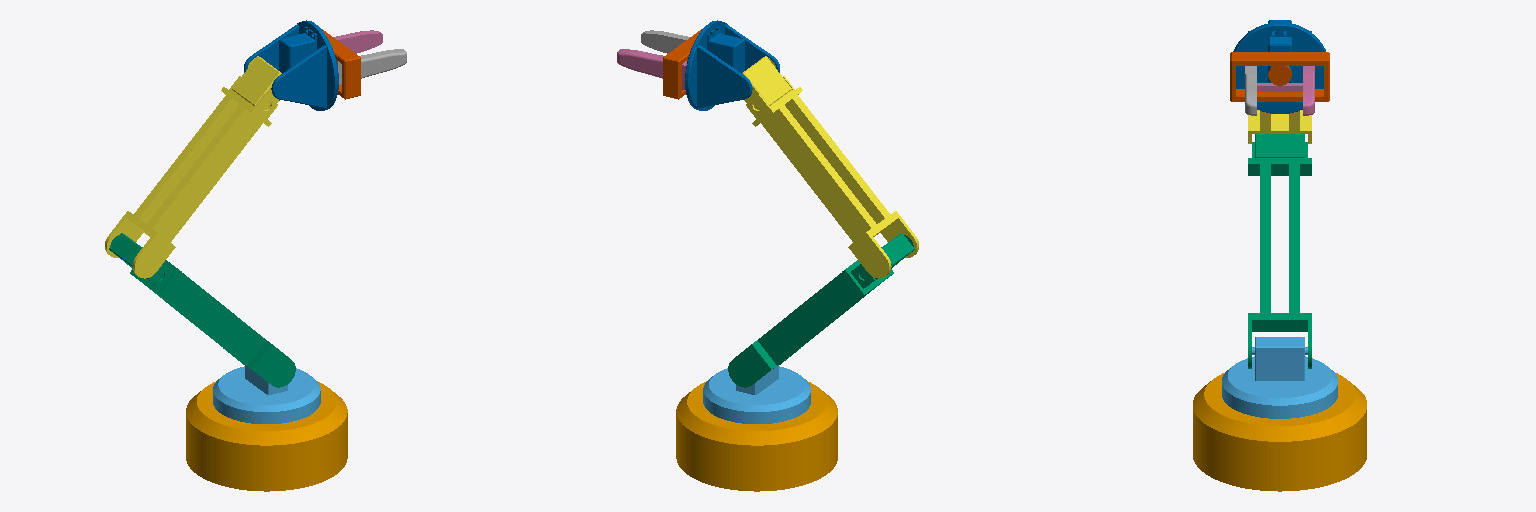
URDF robot description (robotic_arm):
<?xml version='1.0' encoding='utf-8'?>
<robot name="robotic_arm">
    <link name="base_link">
        <inertial>
            <origin xyz="0.0019350882837125133 -7.56053614966041e-18 -0.038471998484193894" rpy="0.0 0.0 0.0" />
            <mass value="1.2751270079207355" />
            <inertia ixx="0.0017613284780996711" iyy="0.001805084256313058" izz="0.00293673143960502" ixy="-1.5497898273746184e-18" iyz="-1.1716081790541872e-18" ixz="-6.572193393048108e-06" />
        </inertial>
        <visual name="base_link_visual">
            <origin xyz="0.0 0.0 0.0" rpy="0.0 0.0 0.0" />
            <geometry>
                <mesh filename="meshes/base_link.stl" scale="0.001 0.001 0.001" />
            </geometry>
        </visual>
        <collision name="base_link_collision">
            <origin xyz="0.0 0.0 0.0" rpy="0.0 0.0 0.0" />
            <geometry>
                <mesh filename="meshes/base_link.stl" scale="0.001 0.001 0.001" />
            </geometry>
        </collision>
    </link>
    <link name="base">
        <inertial>
            <origin xyz="-2.412577731329081e-14 -2.527847581023765e-18 0.023788025443157838" rpy="0.0 -0.0 0.0" />
            <mass value="0.44973770798148155" />
            <inertia ixx="0.00023083608238558574" iyy="0.00018973558521466914" izz="0.00023807605683574535" ixy="-2.1555024432015656e-19" iyz="-2.7725974909069286e-20" ixz="1.867266350592463e-16" />
        </inertial>
        <visual name="base_visual">
            <origin xyz="0.0 0.0 0.01" rpy="0.0 -0.0 0.0" />
            <geometry>
                <mesh filename="meshes/base.stl" scale="0.001 0.001 0.001" />
            </geometry>
        </visual>
        <collision name="base_collision">
            <origin xyz="0.0 0.0 0.01" rpy="0.0 -0.0 0.0" />
            <geometry>
                <mesh filename="meshes/base.stl" scale="0.001 0.001 0.001" />
            </geometry>
        </collision>
    </link>
    <link name="arm_link">
        <inertial>
            <origin xyz="-0.1155607287042174 -0.11556072870424983 4.699571336434638e-18" rpy="0.0 -0.0 0.0" />
            <mass value="0.4058712905468499" />
            <inertia ixx="0.0006924109730527574" iyy="0.0006924109730514468" izz="0.0012336786613033925" ixy="-0.0005986893722248077" iyz="-2.426979280947317e-18" ixz="1.5088365465326855e-18" />
        </inertial>
        <visual name="arm_link_visual">
            <origin xyz="0.021920310543421046 0.021920310543421053 -1.1102230246251566e-18" rpy="1.5707963267948966 2.7755575615628907e-17 -0.7853981633974483" />
            <geometry>
                <mesh filename="meshes/arm_link.stl" scale="0.001 0.001 0.001" />
            </geometry>
        </visual>
        <collision name="arm_link_collision">
            <origin xyz="0.021920310543421046 0.021920310543421053 -1.1102230246251566e-18" rpy="1.5707963267948966 2.7755575615628907e-17 -0.7853981633974483" />
            <geometry>
                <mesh filename="meshes/arm_link.stl" scale="0.001 0.001 0.001" />
            </geometry>
        </collision>
    </link>
    <link name="forearm_link">
        <inertial>
            <origin xyz="0.11933484640300154 -0.11933484994944876 -3.7213986549953376e-18" rpy="-2.7369110631344083e-48 3.0385816786431356e-64 0.0" />
            <mass value="0.398627452252384" />
            <inertia ixx="0.0006820144224255595" iyy="0.0006820144224268941" izz="0.0012165071520571472" ixy="0.0005919414805905257" iyz="-2.832362186398165e-20" ixz="-1.161890082201946e-19" />
        </inertial>
        <visual name="forearm_link_visual">
            <origin xyz="-0.16581654376326369 0.16581654021678285 7.549516567451074e-17" rpy="1.570796326794897 -1.110223024625157e-16 0.7853981633974477" />
            <geometry>
                <mesh filename="meshes/forearm_link.stl" scale="0.001 0.001 0.001" />
            </geometry>
        </visual>
        <collision name="forearm_link_collision">
            <origin xyz="-0.16581654376326369 0.16581654021678285 7.549516567451074e-17" rpy="1.570796326794897 -1.110223024625157e-16 0.7853981633974477" />
            <geometry>
                <mesh filename="meshes/forearm_link.stl" scale="0.001 0.001 0.001" />
            </geometry>
        </collision>
    </link>
    <link name="wrist_link">
        <inertial>
            <origin xyz="0.03558762872383781 -0.008396382172655877 -4.677373772692103e-06" rpy="0.0 -0.0 0.0" />
            <mass value="0.30675157970415107" />
            <inertia ixx="9.338128096254839e-05" iyy="7.776523033221921e-05" izz="0.00010254991655347934" ixy="-2.4075136102379505e-06" iyz="1.223708010768378e-08" ixz="1.4168188876894576e-08" />
        </inertial>
        <visual name="wrist_link_visual">
            <origin xyz="-0.442500003834537 -2.2600423932317426e-09 4.440892098500637e-18" rpy="1.5707963267948968 -2.747661802696606e-16 1.5707963267948966" />
            <geometry>
                <mesh filename="meshes/wrist_link.stl" scale="0.001 0.001 0.001" />
            </geometry>
        </visual>
        <collision name="wrist_link_collision">
            <origin xyz="-0.442500003834537 -2.2600423932317426e-09 4.440892098500637e-18" rpy="1.5707963267948968 -2.747661802696606e-16 1.5707963267948966" />
            <geometry>
                <mesh filename="meshes/wrist_link.stl" scale="0.001 0.001 0.001" />
            </geometry>
        </collision>
    </link>
    <link name="gripper_link">
        <inertial>
            <origin xyz="0.0041223026656079485 -4.9882493000711394e-17 2.2600379168125073e-09" rpy="0.0 -0.0 0.0" />
            <mass value="0.032286945472705525" />
            <inertia ixx="2.4506894963453266e-05" iyy="6.4339200135685e-06" izz="1.971550006383963e-05" ixy="-2.3882520087669606e-20" iyz="-1.552582880198466e-20" ixz="-7.589415207398531e-19" />
        </inertial>
        <visual name="gripper_link_visual">
            <origin xyz="-0.5014000038345371 4.440892098500626e-18 2.2600423932317426e-09" rpy="1.177569344012831e-16 1.5707963267948963 0" />
            <geometry>
                <mesh filename="meshes/gripper_link.stl" scale="0.001 0.001 0.001" />
            </geometry>
        </visual>
        <collision name="gripper_link_collision">
            <origin xyz="-0.5014000038345371 4.440892098500626e-18 2.2600423932317426e-09" rpy="1.177569344012831e-16 1.5707963267948963 0" />
            <geometry>
                <mesh filename="meshes/gripper_link.stl" scale="0.001 0.001 0.001" />
            </geometry>
        </collision>
    </link>
    <link name="finger_l">
        <inertial>
            <origin xyz="0.028848103581100182 0.022913349293162213 0.008735724525305423" rpy="0.0 -0.0 0.0" />
            <mass value="0.01578028501010725" />
            <inertia ixx="1.6319669672267608e-06" iyy="8.481847736222653e-06" izz="8.878684134625665e-06" ixy="-8.875979579263719e-07" iyz="-3.5551716122507796e-07" ixz="-5.743822306467495e-07" />
        </inertial>
        <visual name="finger_l_visual">
            <origin xyz="-0.5024000038345371 -0.007499999999999995 0.010000002260042358" rpy="1.177569344012831e-16 1.5707963267948963 0" />
            <geometry>
                <mesh filename="meshes/finger_l.stl" scale="0.001 0.001 0.001" />
            </geometry>
        </visual>
        <collision name="finger_l_collision">
            <origin xyz="-0.5024000038345371 -0.007499999999999995 0.010000002260042358" rpy="1.177569344012831e-16 1.5707963267948963 0" />
            <geometry>
                <mesh filename="meshes/finger_l.stl" scale="0.001 0.001 0.001" />
            </geometry>
        </collision>
    </link>
    <link name="finger_r">
        <inertial>
            <origin xyz="0.02884801104673416 -0.022913419650612443 -0.008735731076936589" rpy="0.0 -0.0 0.0" />
            <mass value="0.015780485954483076" />
            <inertia ixx="1.631986601722396e-06" iyy="8.481870175917937e-06" izz="8.878699209223376e-06" ixy="8.875900838909164e-07" iyz="-3.5551816132200164e-07" ixz="5.743819837909368e-07" />
        </inertial>
        <visual name="finger_r_visual">
            <origin xyz="-0.5024000038345371 0.007500000000000005 -0.009999997739957607" rpy="1.177569344012831e-16 1.5707963267948963 0" />
            <geometry>
                <mesh filename="meshes/finger_r.stl" scale="0.001 0.001 0.001" />
            </geometry>
        </visual>
        <collision name="finger_r_collision">
            <origin xyz="-0.5024000038345371 0.007500000000000005 -0.009999997739957607" rpy="1.177569344012831e-16 1.5707963267948963 0" />
            <geometry>
                <mesh filename="meshes/finger_r.stl" scale="0.001 0.001 0.001" />
            </geometry>
        </collision>
    </link>
    <joint name="base_link_base_rotation" type="continuous">
        <origin xyz="0.0 0.0 -0.01" rpy="0.0 -0.0 0.0" />
        <parent link="base_link" />
        <child link="base" />
        <axis xyz="0.0 0.0 1.0" />
    </joint>
    <joint name="base_arm_rotation" type="continuous">
        <origin xyz="0.0 0.0 0.040999999999999995" rpy="-1.5707963267948966 -0.0 0.0" />
        <parent link="base" />
        <child link="arm_link" />
        <axis xyz="0.0 0.0 1.0" />
    </joint>
    <joint name="arm_link_forearm_rotation" type="continuous">
        <origin xyz="-0.14389623 -0.14389623 0.0" rpy="1.3866695599588117e-32 -2.5658541216885115e-48 0.0" />
        <parent link="arm_link" />
        <child link="forearm_link" />
        <axis xyz="2.5658541216885078e-48 1.3866695599588098e-32 0.9999999999999987" />
    </joint>
    <joint name="forearm_link_wrist_rotation" type="continuous">
        <origin xyz="0.14707821000000024 -0.14707820999999996 2.0394887674022966e-33" rpy="-1.38666955995881e-32 -2.4651903288156613e-32 -1.1344072614353854e-48" />
        <parent link="forearm_link" />
        <child link="wrist_link" />
        <axis xyz="2.465190328815662e-32 0.0 1.0" />
    </joint>
    <joint name="wrist_link_gripper_joint" type="fixed">
        <origin xyz="0.05890000000000001 0.0 -1.451997103672425e-33" rpy="1.5707963267948966 2.465190328815662e-32 0.0" />
        <parent link="wrist_link" />
        <child link="gripper_link" />
    </joint>
    <joint name="gripper_link_finger_l_joint" type="prismatic">
        <origin xyz="0.0002499999999999947 0.0 0.01" rpy="0.0 -0.0 0.0" />
        <parent link="gripper_link" />
        <child link="finger_r" />
        <axis xyz="0.0 1.0 0.0" />
    </joint>
    <joint name="gripper_link_finger_r_joint" type="prismatic">
        <origin xyz="0.0002499999999999947 0.0 -0.009999999999999966" rpy="0.0 -0.0 0.0" />
        <parent link="gripper_link" />
        <child link="finger_l" />
        <axis xyz="-0.0 -1.0 -0.0" />
    </joint>
</robot>

--- Facts derived from the render (not from the file) ---
The picture shows the robot from 3 angles, left to right: view 1: azimuth 30°, elevation 25°; view 2: azimuth 150°, elevation 25°; view 3: azimuth 270°, elevation 25°; orthographic projection.
Model robotic_arm with 8 links and 7 joints (4 continuous, 2 prismatic, 1 fixed), rooted at base_link, posed all joints at 0.
Visible links, largest first — view 1: base_link, forearm_link, arm_link, wrist_link, base, gripper_link, finger_r, finger_l; view 2: base_link, forearm_link, arm_link, wrist_link, base, gripper_link, finger_l, finger_r; view 3: base_link, base, arm_link, wrist_link, gripper_link, forearm_link, finger_l, finger_r.
Link boxes in pixels (x1=…): base_link: x1=186, y1=381, x2=347, y2=491; forearm_link: x1=105, y1=56, x2=281, y2=278; arm_link: x1=109, y1=233, x2=295, y2=387; wrist_link: x1=244, y1=20, x2=338, y2=110; base: x1=213, y1=365, x2=320, y2=423; gripper_link: x1=322, y1=29, x2=360, y2=99; finger_r: x1=336, y1=49, x2=406, y2=84; finger_l: x1=334, y1=30, x2=382, y2=53; base_link: x1=676, y1=381, x2=837, y2=491; forearm_link: x1=742, y1=56, x2=918, y2=278; arm_link: x1=728, y1=233, x2=914, y2=387; wrist_link: x1=685, y1=20, x2=779, y2=110; base: x1=703, y1=365, x2=810, y2=423; gripper_link: x1=663, y1=29, x2=701, y2=99; finger_l: x1=617, y1=49, x2=686, y2=89; finger_r: x1=641, y1=30, x2=689, y2=60; base_link: x1=1193, y1=373, x2=1366, y2=491; base: x1=1222, y1=337, x2=1337, y2=418; arm_link: x1=1248, y1=134, x2=1311, y2=368; wrist_link: x1=1233, y1=20, x2=1325, y2=113; gripper_link: x1=1230, y1=52, x2=1329, y2=101; forearm_link: x1=1248, y1=110, x2=1311, y2=143; finger_l: x1=1257, y1=66, x2=1314, y2=115; finger_r: x1=1245, y1=66, x2=1256, y2=115.
Bounding box of the posed robot: 0.294 × 0.15 × 0.4317 m (x, y, z).
8 mesh visuals loaded from 8 distinct referenced files (8 binary STL).
